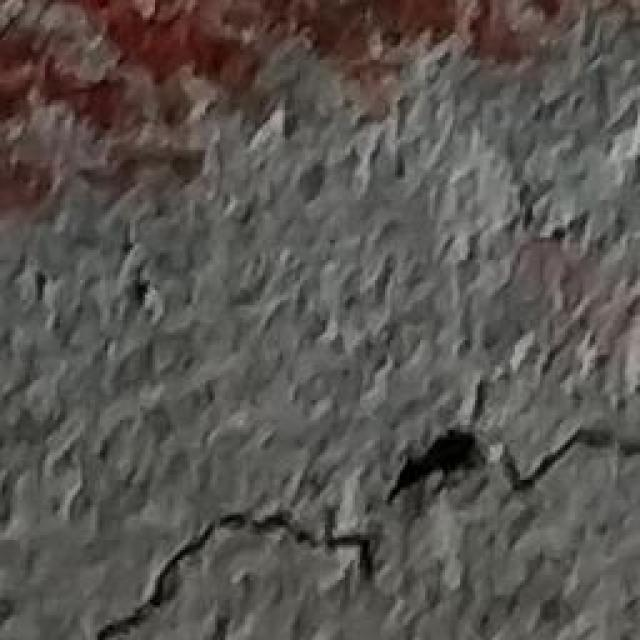Diagonal: (30, 410, 638, 640)
Rippled: (0, 0, 562, 215)
